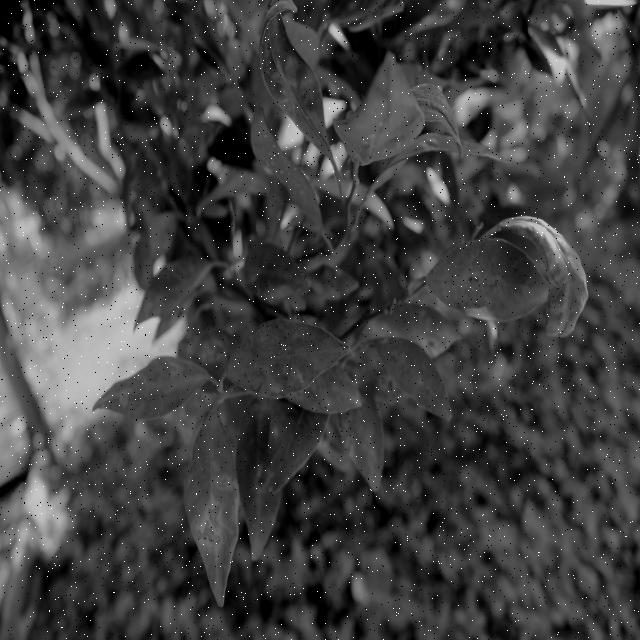canker: (191, 464, 239, 560), (526, 216, 573, 286), (339, 403, 380, 473), (451, 264, 507, 300), (182, 336, 232, 374), (248, 457, 278, 507), (369, 364, 405, 398), (422, 323, 443, 358)
